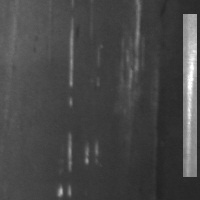scratches: (54, 129, 101, 198), (117, 1, 146, 86), (183, 14, 197, 177), (65, 16, 81, 107)
